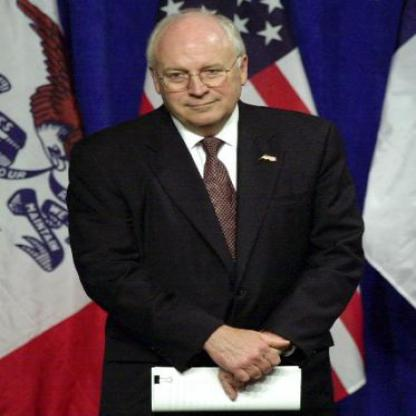face: (154, 13, 244, 126)
